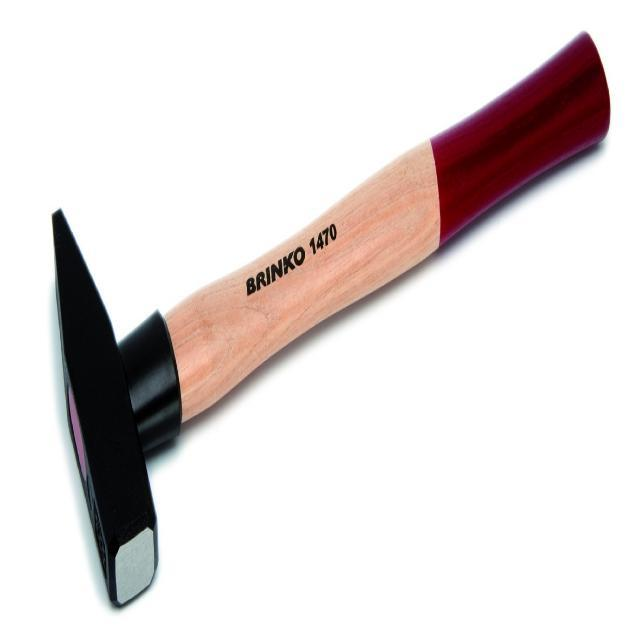hammer: (48, 31, 614, 614)
